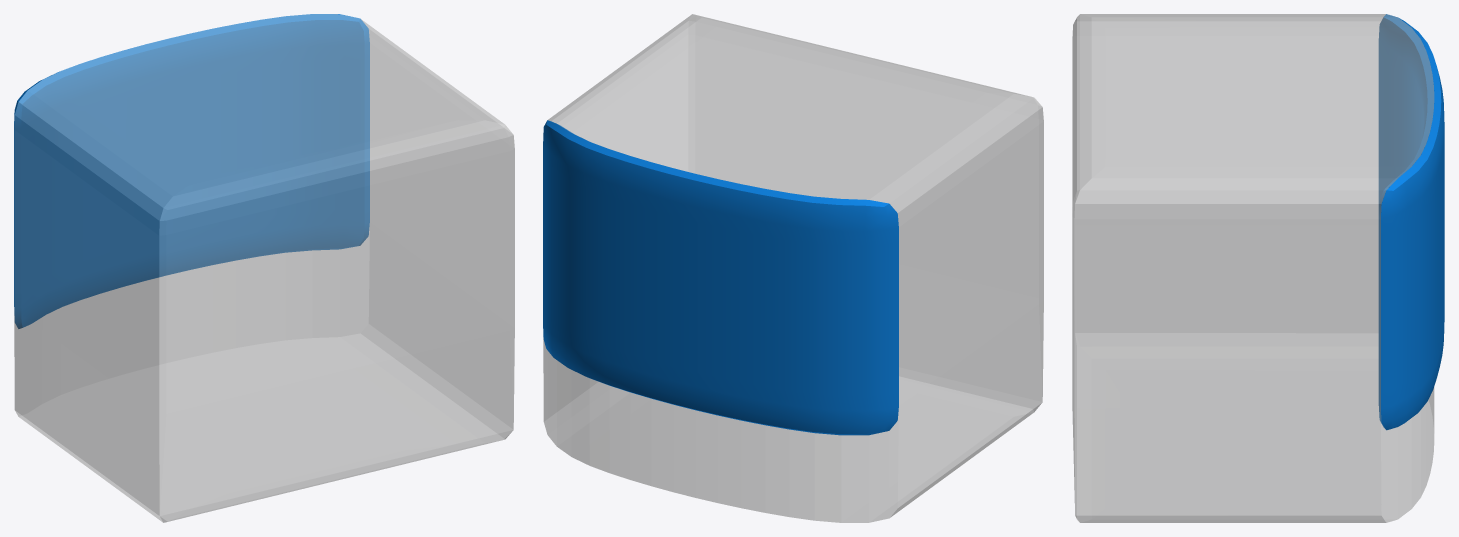
3 renders of one model, left to right at view 1: azimuth 30°, elevation 25°; view 2: azimuth 150°, elevation 25°; view 3: azimuth 270°, elevation 25°, orthographic. The views are drawn at different scales.
Visible parts, largest first — view 1: Area, Shield; view 2: Area, Shield; view 3: Area, Shield.
Boxes of the visible parts, bbox=[...] form: Area: bbox=[14, 14, 514, 522]; Shield: bbox=[14, 14, 369, 328]; Area: bbox=[543, 14, 1043, 522]; Shield: bbox=[543, 120, 898, 435]; Area: bbox=[1072, 14, 1434, 522]; Shield: bbox=[1378, 14, 1444, 430].
Size of the model in its own units: 4.25 by 3.7 by 3.64.
